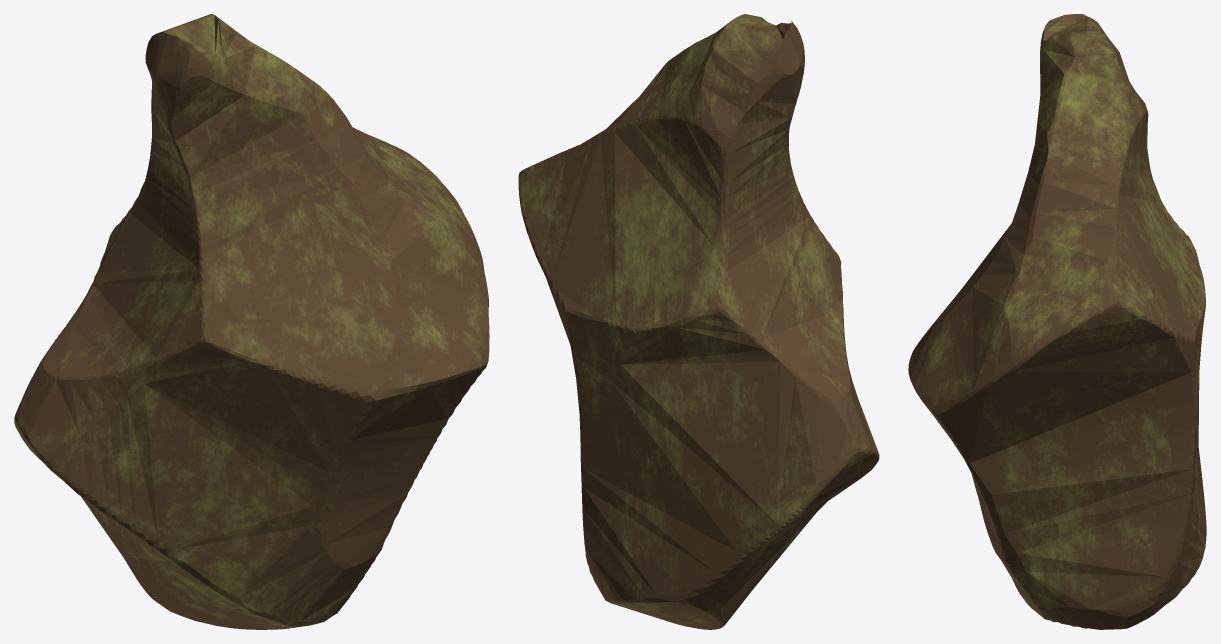
The model's file is Rock6.fbx.
The picture shows the model from 3 angles, left to right: view 1: azimuth 30°, elevation 25°; view 2: azimuth 150°, elevation 25°; view 3: azimuth 270°, elevation 25°; orthographic projection. The views are drawn at different scales.
Parts seen in each view (by area): view 1: Rock3; view 2: Rock3; view 3: Rock3.
Part boxes in pixels (bbox=[...]): Rock3: bbox=[14, 14, 489, 629]; Rock3: bbox=[518, 14, 879, 629]; Rock3: bbox=[908, 14, 1206, 629].
Size of the model in its own units: 138 by 211 by 101.
1 material, 1 textured.
